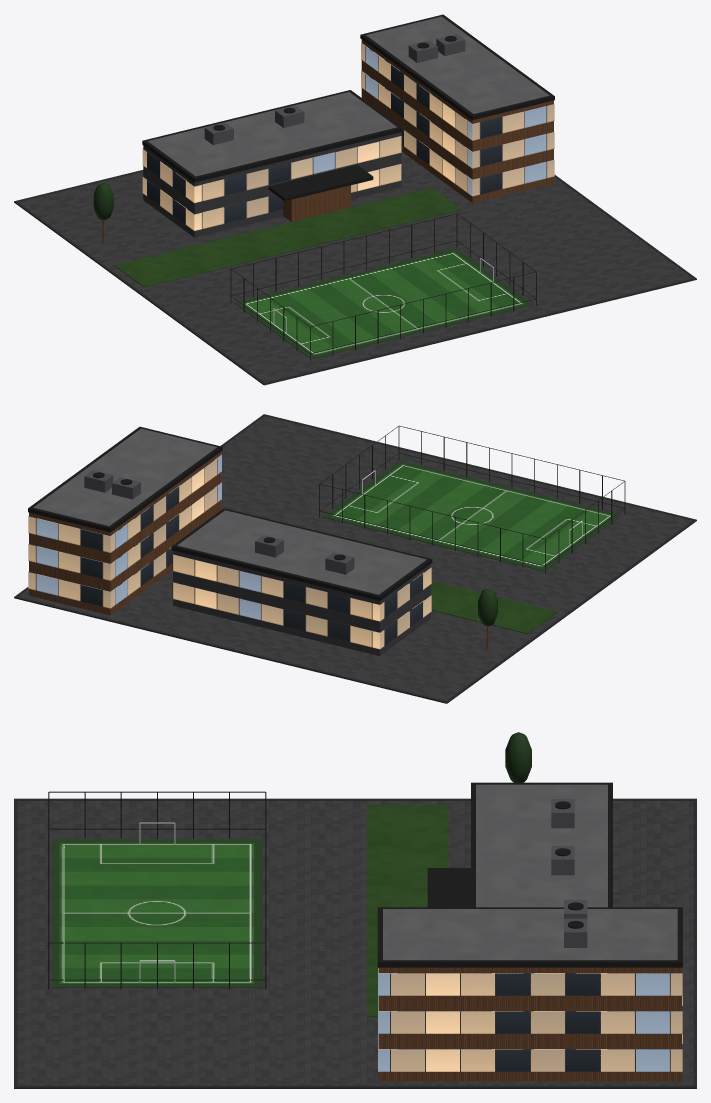
File: academy_L2.glb
3 renders of one model, top to bottom at view 1: azimuth 30°, elevation 25°; view 2: azimuth 150°, elevation 25°; view 3: azimuth 270°, elevation 25°, orthographic. The views are drawn at different scales.
Parts seen in each view (by area): view 1: paving_academy_L2, emissive_curtain_academy_L2, turf_cage_academy_L2, roofing_academy_L2, lawn_academy_L2, black_metal_academy_L2, wood_academy_L2, cladding_academy_L2, concrete_dark_academy_L2, steel_academy_L2, foliage_academy_L2; view 2: paving_academy_L2, emissive_curtain_academy_L2, turf_cage_academy_L2, roofing_academy_L2, black_metal_academy_L2, wood_academy_L2, cladding_academy_L2, concrete_dark_academy_L2, lawn_academy_L2, steel_academy_L2, foliage_academy_L2; view 3: paving_academy_L2, turf_cage_academy_L2, roofing_academy_L2, emissive_curtain_academy_L2, wood_academy_L2, black_metal_academy_L2, lawn_academy_L2, concrete_dark_academy_L2, steel_academy_L2, foliage_academy_L2.
Boxes of the visible parts, x1,y1,x2,y2 form: paving_academy_L2: [18, 152, 692, 382]; emissive_curtain_academy_L2: [142, 42, 554, 230]; turf_cage_academy_L2: [234, 248, 532, 359]; roofing_academy_L2: [147, 16, 549, 176]; lawn_academy_L2: [114, 187, 461, 287]; black_metal_academy_L2: [142, 14, 554, 360]; wood_academy_L2: [102, 40, 553, 243]; cladding_academy_L2: [143, 132, 401, 237]; concrete_dark_academy_L2: [14, 170, 696, 385]; steel_academy_L2: [204, 33, 465, 145]; foliage_academy_L2: [93, 182, 113, 220]; paving_academy_L2: [18, 416, 692, 700]; emissive_curtain_academy_L2: [28, 454, 431, 649]; turf_cage_academy_L2: [323, 461, 621, 571]; roofing_academy_L2: [33, 428, 426, 594]; black_metal_academy_L2: [28, 425, 625, 600]; wood_academy_L2: [29, 452, 488, 649]; cladding_academy_L2: [173, 550, 430, 655]; concrete_dark_academy_L2: [14, 414, 696, 703]; lawn_academy_L2: [431, 581, 557, 633]; steel_academy_L2: [84, 470, 354, 574]; foliage_academy_L2: [478, 588, 497, 626]; paving_academy_L2: [17, 800, 693, 1085]; turf_cage_academy_L2: [52, 839, 262, 987]; roofing_academy_L2: [383, 784, 677, 960]; emissive_curtain_academy_L2: [378, 967, 682, 1071]; wood_academy_L2: [378, 967, 681, 1081]; black_metal_academy_L2: [48, 782, 682, 989]; lawn_academy_L2: [367, 804, 448, 1017]; concrete_dark_academy_L2: [14, 798, 696, 1088]; steel_academy_L2: [551, 799, 587, 947]; foliage_academy_L2: [505, 732, 531, 782].
Size of the model in its own units: 58.6 by 13.04 by 58.6.
12 materials, 7 textured.
